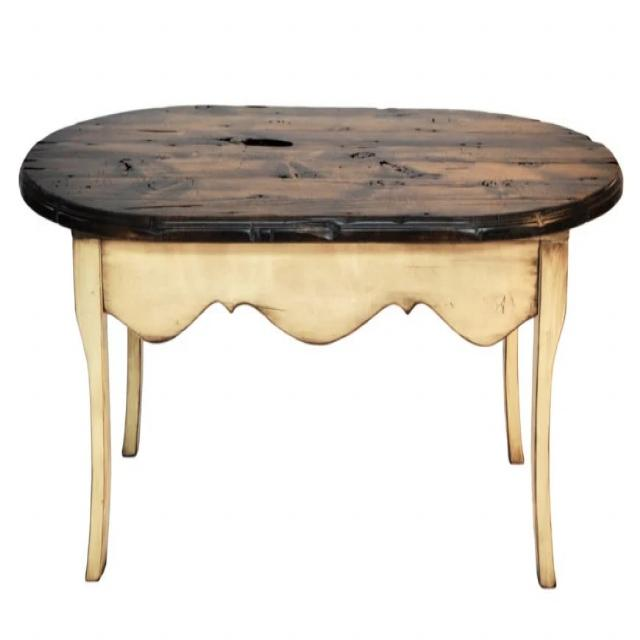Table: (10, 65, 633, 619)
